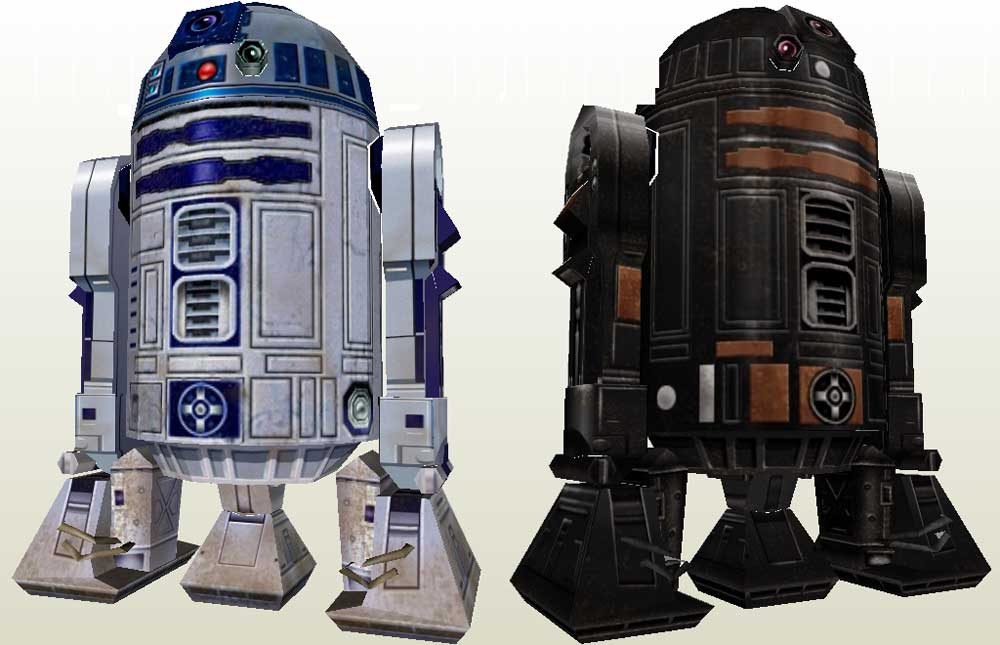r2d2: (34, 2, 483, 633), (540, 6, 992, 632)
